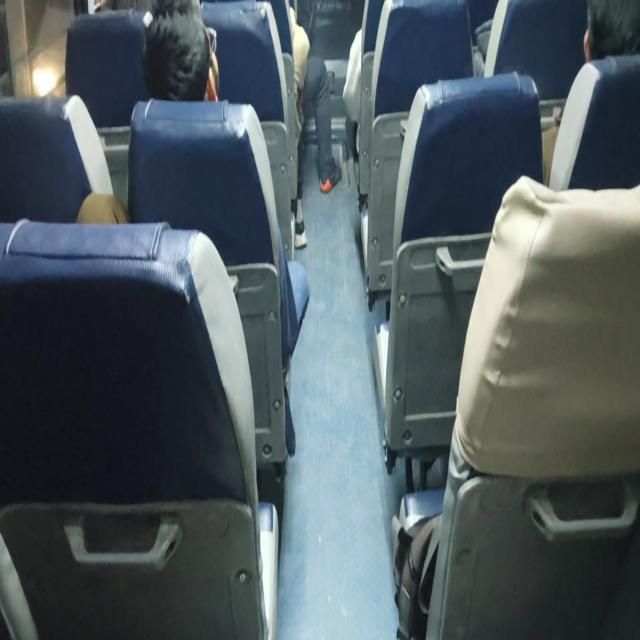person: (146, 8, 222, 114), (569, 0, 640, 83)
